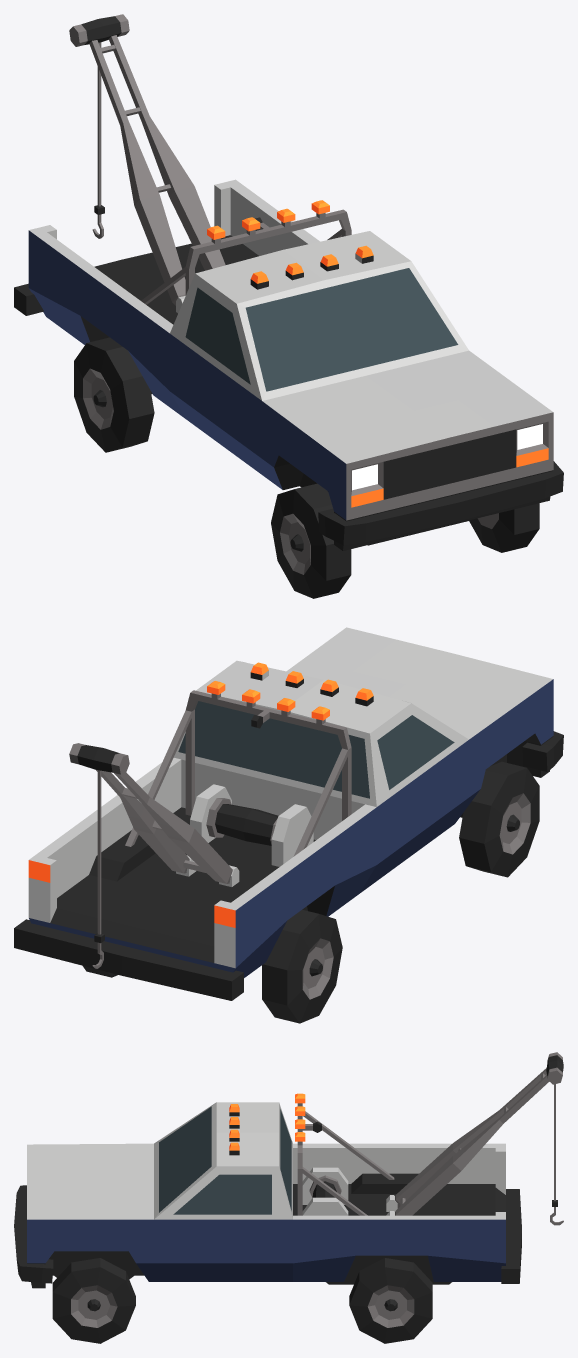
Rendered from vehicles_car-tow-truck.fbx.
The picture shows the model from 3 angles, top to bottom: view 1: azimuth 30°, elevation 25°; view 2: azimuth 150°, elevation 25°; view 3: azimuth 270°, elevation 25°; orthographic projection. The views are drawn at different scales.
Visible parts, largest first — view 1: car_tow_truck_base, car_tow_truck_BR, car_tow_truck_wheel_FR, car_tow_truck_wheel_FL; view 2: car_tow_truck_base, car_tow_truck_wheel_FR, car_tow_truck_BR; view 3: car_tow_truck_base, car_tow_truck_wheel_FL, car_tow_truck_wheel_BL.
Part boxes in pixels (x1,y1,x2,y2): car_tow_truck_base: (14, 14, 563, 550); car_tow_truck_BR: (74, 337, 154, 452); car_tow_truck_wheel_FR: (271, 483, 351, 598); car_tow_truck_wheel_FL: (469, 503, 539, 552); car_tow_truck_base: (14, 627, 563, 1000); car_tow_truck_wheel_FR: (459, 761, 539, 877); car_tow_truck_BR: (262, 909, 342, 1023); car_tow_truck_base: (14, 1052, 563, 1288); car_tow_truck_wheel_FL: (52, 1258, 135, 1343); car_tow_truck_wheel_BL: (349, 1258, 432, 1343).
Size of the model in its own units: 72.28 by 97.97 by 200.
